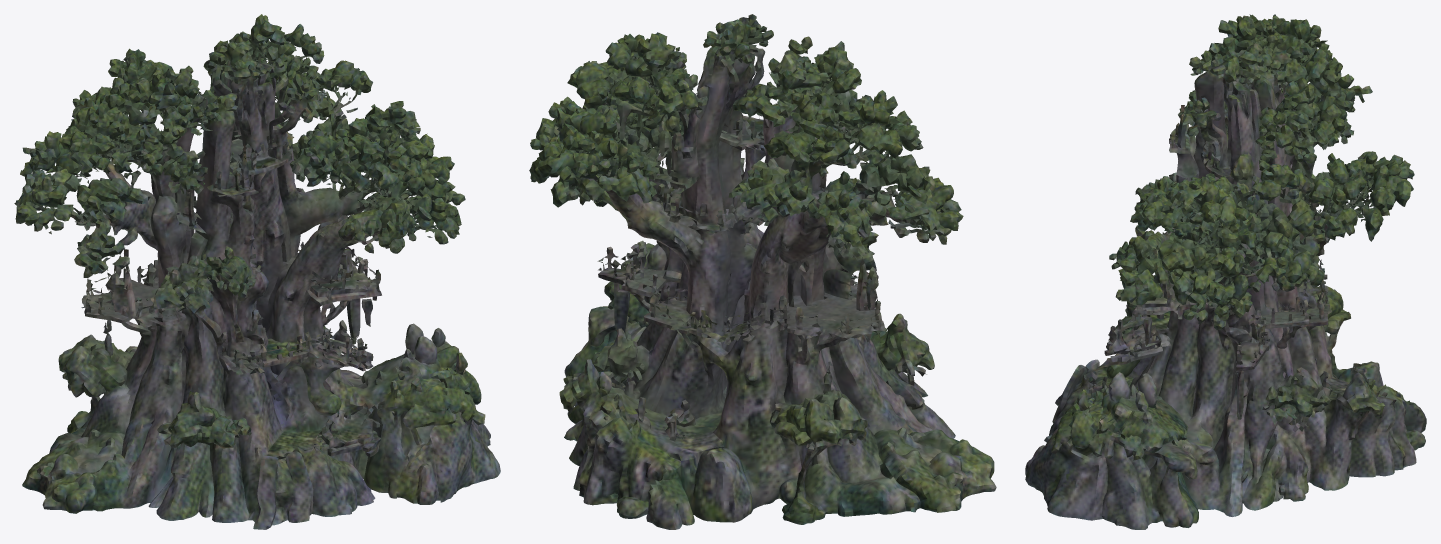
File: stormheart_b.glb
The picture shows the model from 3 angles, left to right: view 1: azimuth 30°, elevation 25°; view 2: azimuth 150°, elevation 25°; view 3: azimuth 270°, elevation 25°; orthographic projection. The views are drawn at different scales.
Bounding box in the file's own units: 1.9 × 1.74 × 1.63.
1 material, 1 textured.
